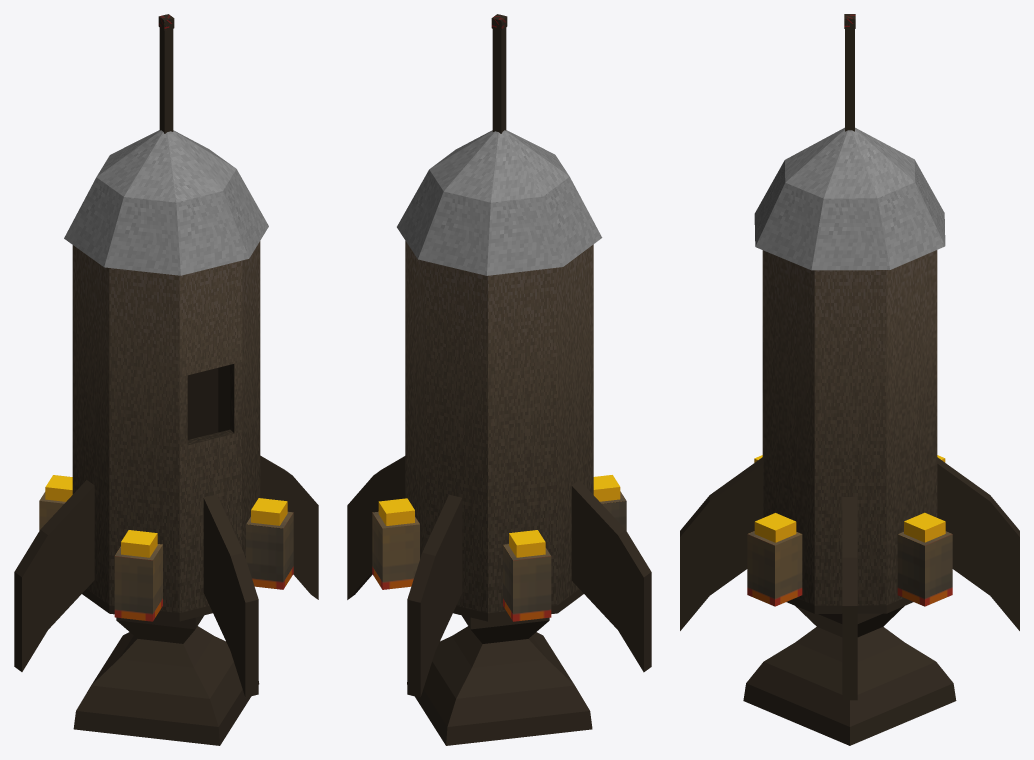
File: tier5rocket.obj
3 renders of one model, left to right at view 1: azimuth 30°, elevation 25°; view 2: azimuth 150°, elevation 25°; view 3: azimuth 270°, elevation 25°, orthographic.
Parts seen in each view (by area): view 1: Rocket, NoseCone, Boosters; view 2: Rocket, NoseCone, Boosters; view 3: Rocket, NoseCone, Boosters.
Part boxes in pixels (box(x1,y1,x2,y2)): Rocket: box(14, 27, 318, 745); NoseCone: box(64, 130, 268, 275); Boosters: box(39, 475, 293, 621); Rocket: box(347, 27, 651, 745); NoseCone: box(397, 130, 602, 275); Boosters: box(372, 475, 626, 621); Rocket: box(680, 29, 1019, 745); NoseCone: box(754, 127, 945, 270); Boosters: box(747, 455, 952, 606).
Size of the model in its own units: 3.61 by 8.02 by 3.61.
